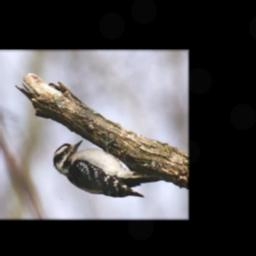Woodpecker: (46, 137, 164, 202)
